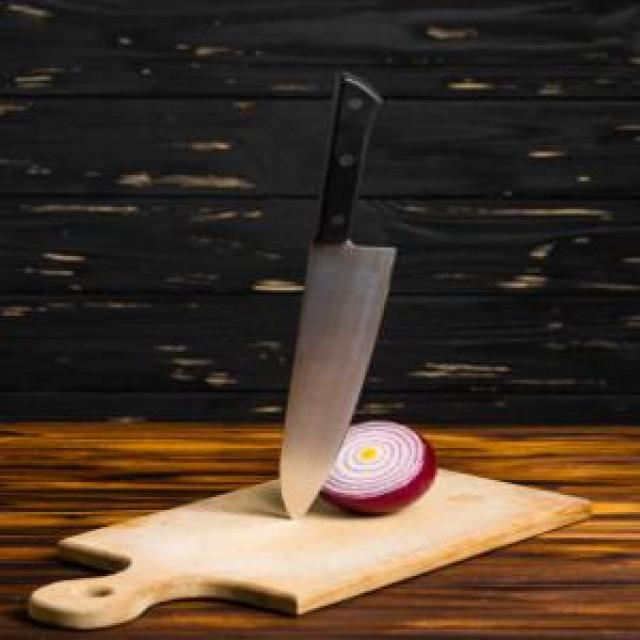knife: (275, 60, 400, 517)
